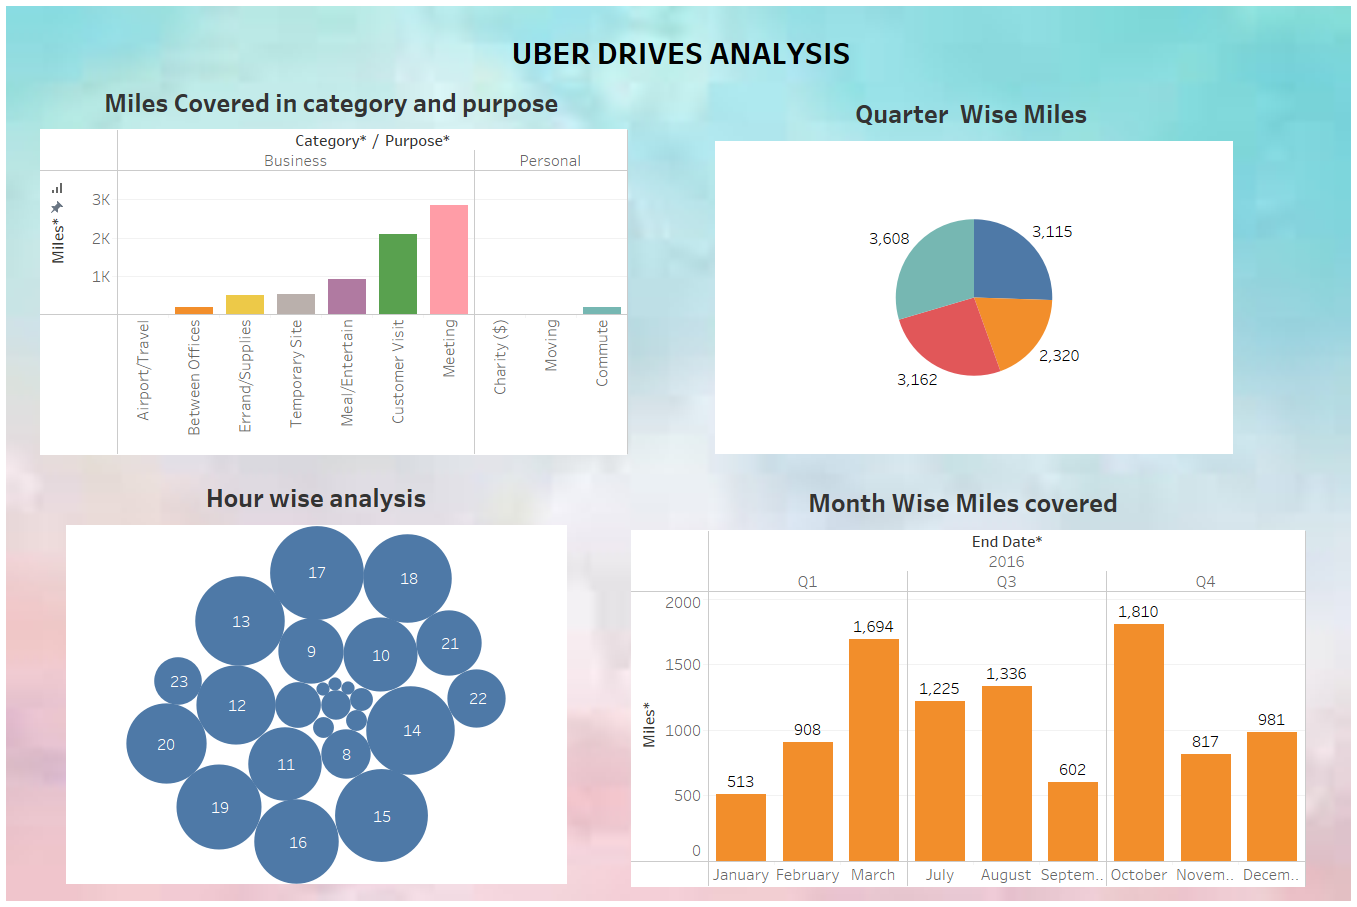

The dashboard page shown, as its layout file describes it:
{"tool":"tableau","page":{"name":"Dashboard 2","canvas":[1369,927],"ordinal":1},"visuals":[{"type":"image","param":"C:/Users/praka/Desktop/download.jfif","box":[8,8,1353,911]},{"type":"text","box":[479,29,416,65]},{"type":"worksheet","title":"Sheet 2","mark":"Automatic","rows":["MILES*"],"cols":["CATEGORY*","PURPOSE*"],"box":[46,91,588,374]},{"type":"worksheet","title":"Sheet 6","mark":"Pie","box":[721,102,518,362]},{"type":"worksheet","title":"Sheet 9","mark":"Circle","box":[72,486,501,408]},{"type":"worksheet","title":"Sheet 4","mark":"Bar","rows":["MILES*"],"cols":["END_DATE*","END_DATE*","END_DATE*"],"box":[637,491,675,406]}]}

Visuals, with their boxes in screenshot pixels (x1, y1, x2, y2), scaled from the page's 1369x927 canvas onto the 1357x907 screenshot:
image: 8,8,1349,899
text: 475,28,887,92
"Sheet 2" worksheet: 46,89,628,455
"Sheet 6" worksheet (Pie marks): 715,100,1228,454
"Sheet 9" worksheet (Circle marks): 71,476,568,875
"Sheet 4" worksheet (Bar marks): 631,480,1300,878
